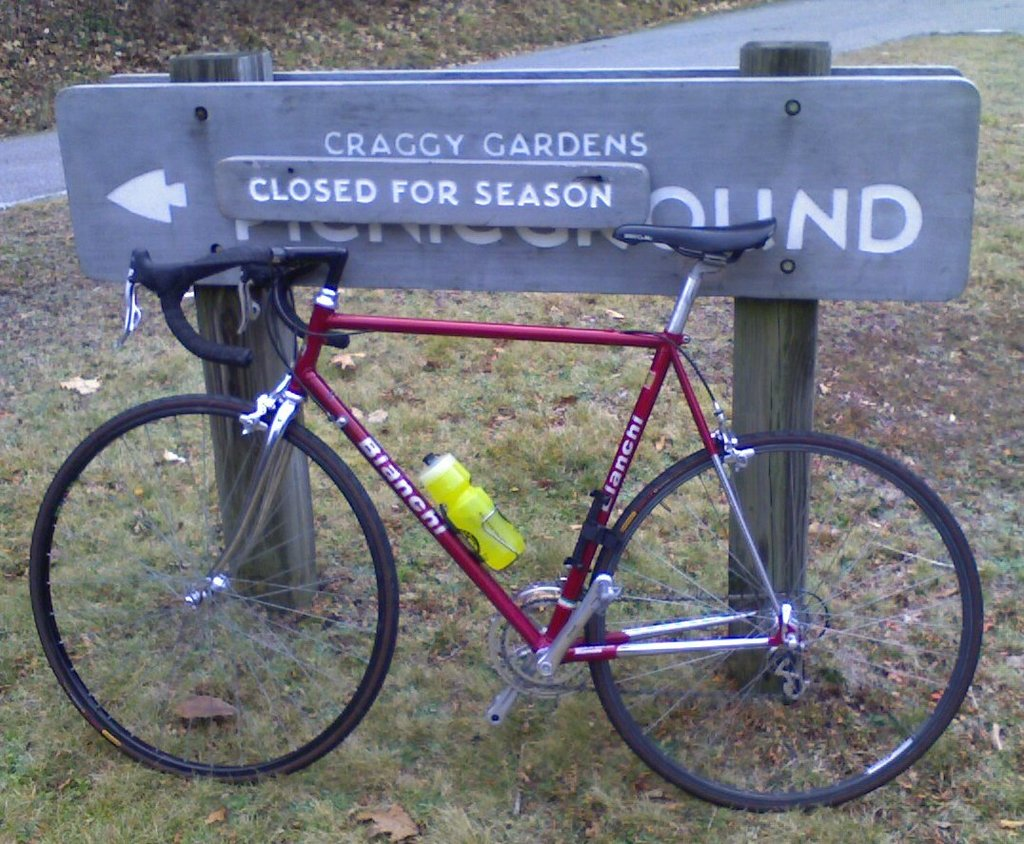Bike: (61, 207, 1018, 789)
